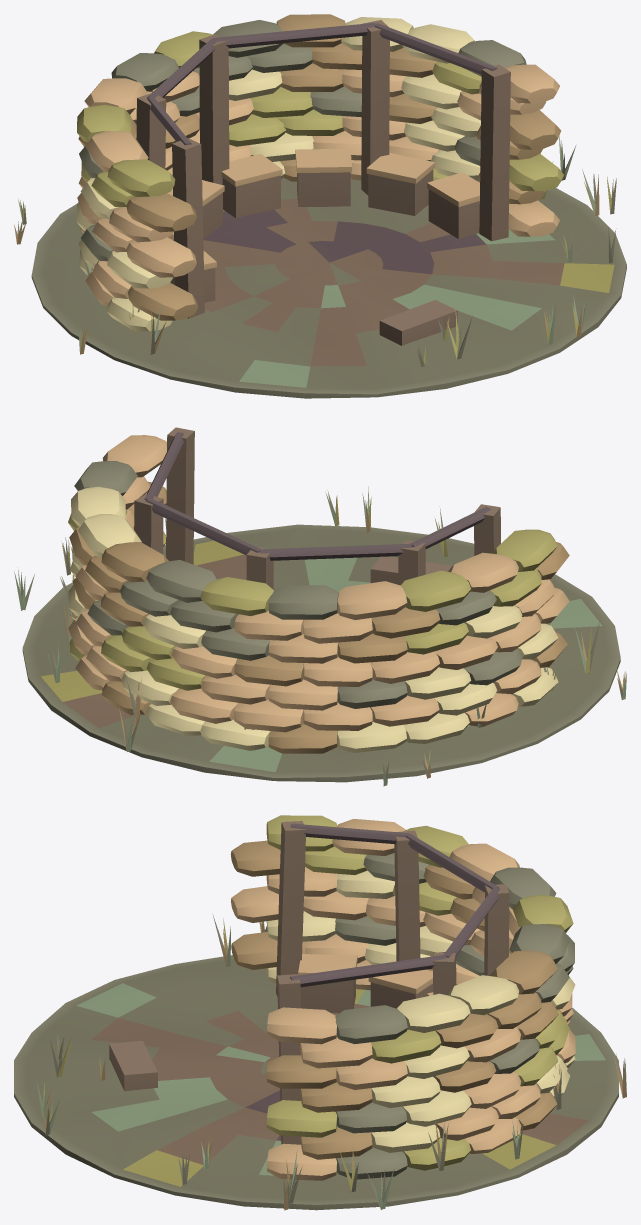
Rendered from sandbag_bunker_v1.glb.
3 renders of one model, top to bottom at view 1: azimuth 30°, elevation 25°; view 2: azimuth 150°, elevation 25°; view 3: azimuth 270°, elevation 25°, orthographic. The views are drawn at different scales.
Parts seen in each view (by area): view 1: Body; view 2: Body; view 3: Body.
Boxes of the visible parts, x1,y1,x2,y2 form: Body: (14,14,626,398); Body: (14,427,626,786); Body: (14,815,626,1210).
Bounding box in the file's own units: 0.8564 × 0.2609 × 0.8047.
